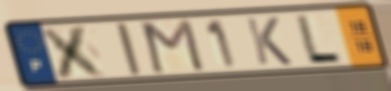1: (203, 17, 239, 70)
I: (112, 21, 144, 78)
K: (242, 16, 295, 67)
L: (293, 13, 345, 64)
M: (140, 17, 208, 76)
X: (37, 23, 112, 80)
